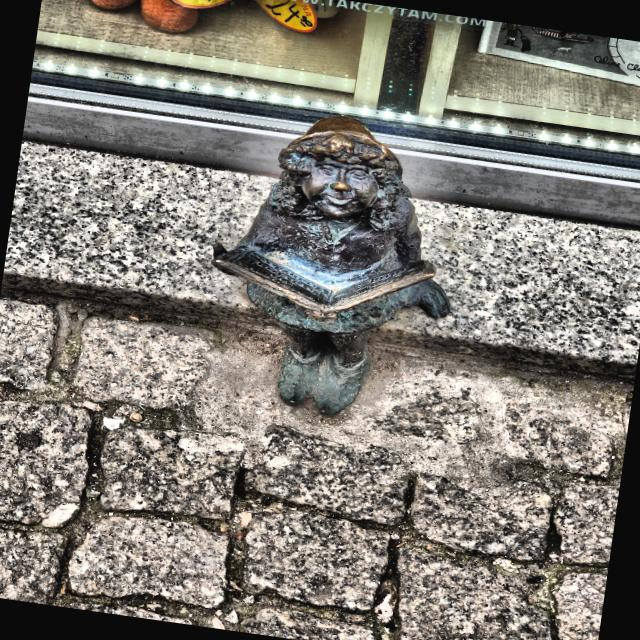Ksiegarka: (212, 119, 449, 419)
